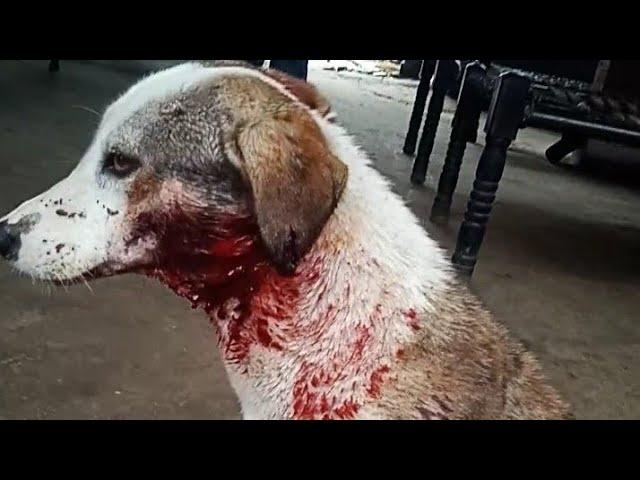bleeding: (156, 180, 295, 338)
